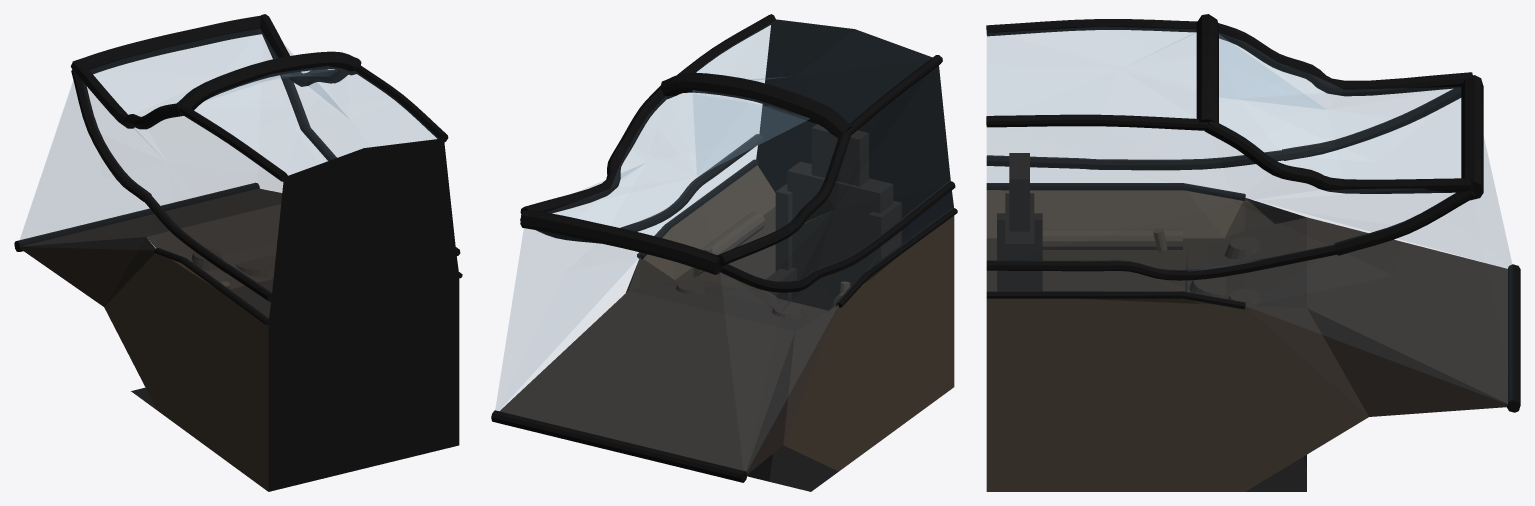
The model's file is cockpit.obj.
3 renders of one model, left to right at view 1: azimuth 30°, elevation 25°; view 2: azimuth 150°, elevation 25°; view 3: azimuth 270°, elevation 25°, orthographic. The views are drawn at different scales.
Parts seen in each view (by area): view 1: frame, glass, console, dash; view 2: glass, frame, dash, console, seat, floor; view 3: glass, console, dash, frame, seat, floor.
Part boxes in pixels (x1=…): frame: x1=14, y1=14, x2=462, y2=491; glass: x1=19, y1=29, x2=437, y2=318; console: x1=104, y1=253, x2=268, y2=491; dash: x1=21, y1=188, x2=282, y2=317; glass: x1=495, y1=20, x2=953, y2=470; frame: x1=491, y1=14, x2=957, y2=482; dash: x1=500, y1=260, x2=838, y2=474; console: x1=628, y1=165, x2=954, y2=471; seat: x1=753, y1=124, x2=901, y2=310; floor: x1=747, y1=445, x2=838, y2=491; glass: x1=987, y1=27, x2=1512, y2=402; console: x1=986, y1=190, x2=1368, y2=491; dash: x1=1185, y1=198, x2=1507, y2=416; frame: x1=986, y1=14, x2=1520, y2=412; seat: x1=997, y1=153, x2=1042, y2=291; floor: x1=1245, y1=455, x2=1306, y2=491.
Size of the model in its own units: 1.56 by 2.1 by 2.59.
